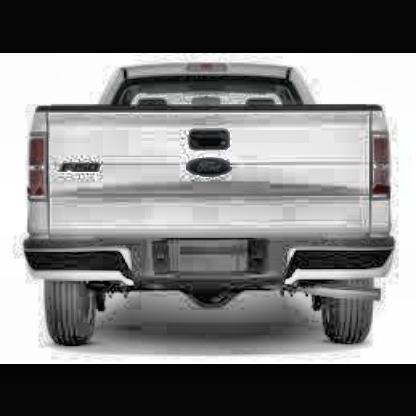Ford F-150 Regular Cab 2012: (23, 61, 395, 354)
